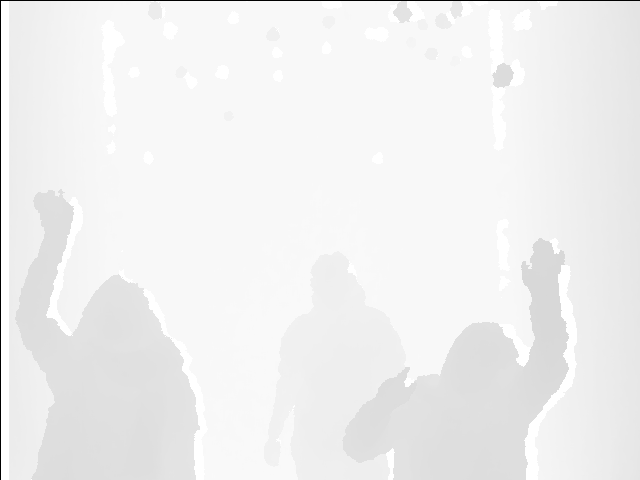hand: (518, 235, 568, 290), (32, 190, 76, 236)
